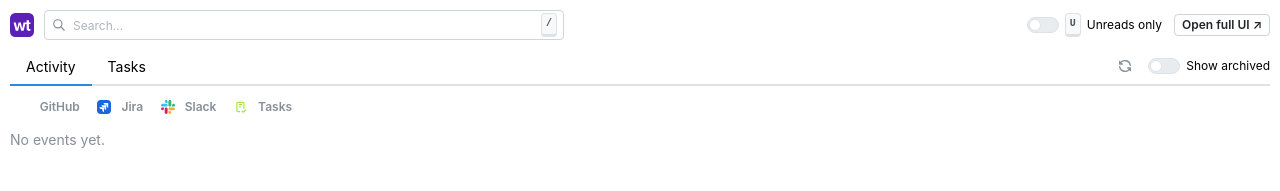
MiniPage › tasks tab ignores collapsed
The image size is (1280, 191).
What coordinates should you click on to do the following:
click the tab "Tasks"
I would click on:
 (127, 68)
Its box is 92,50 -> 162,86.
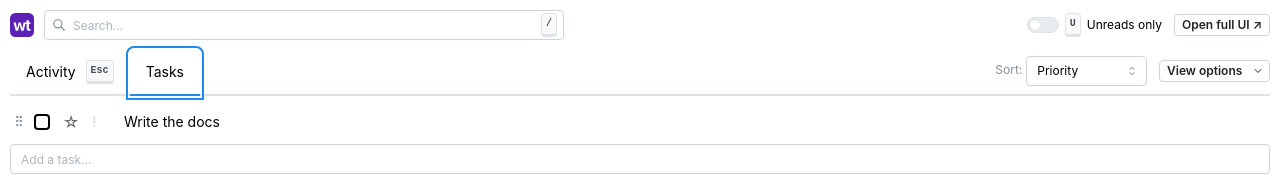
Now the text "Write the docs" is shown, box 124,113 -> 220,130
